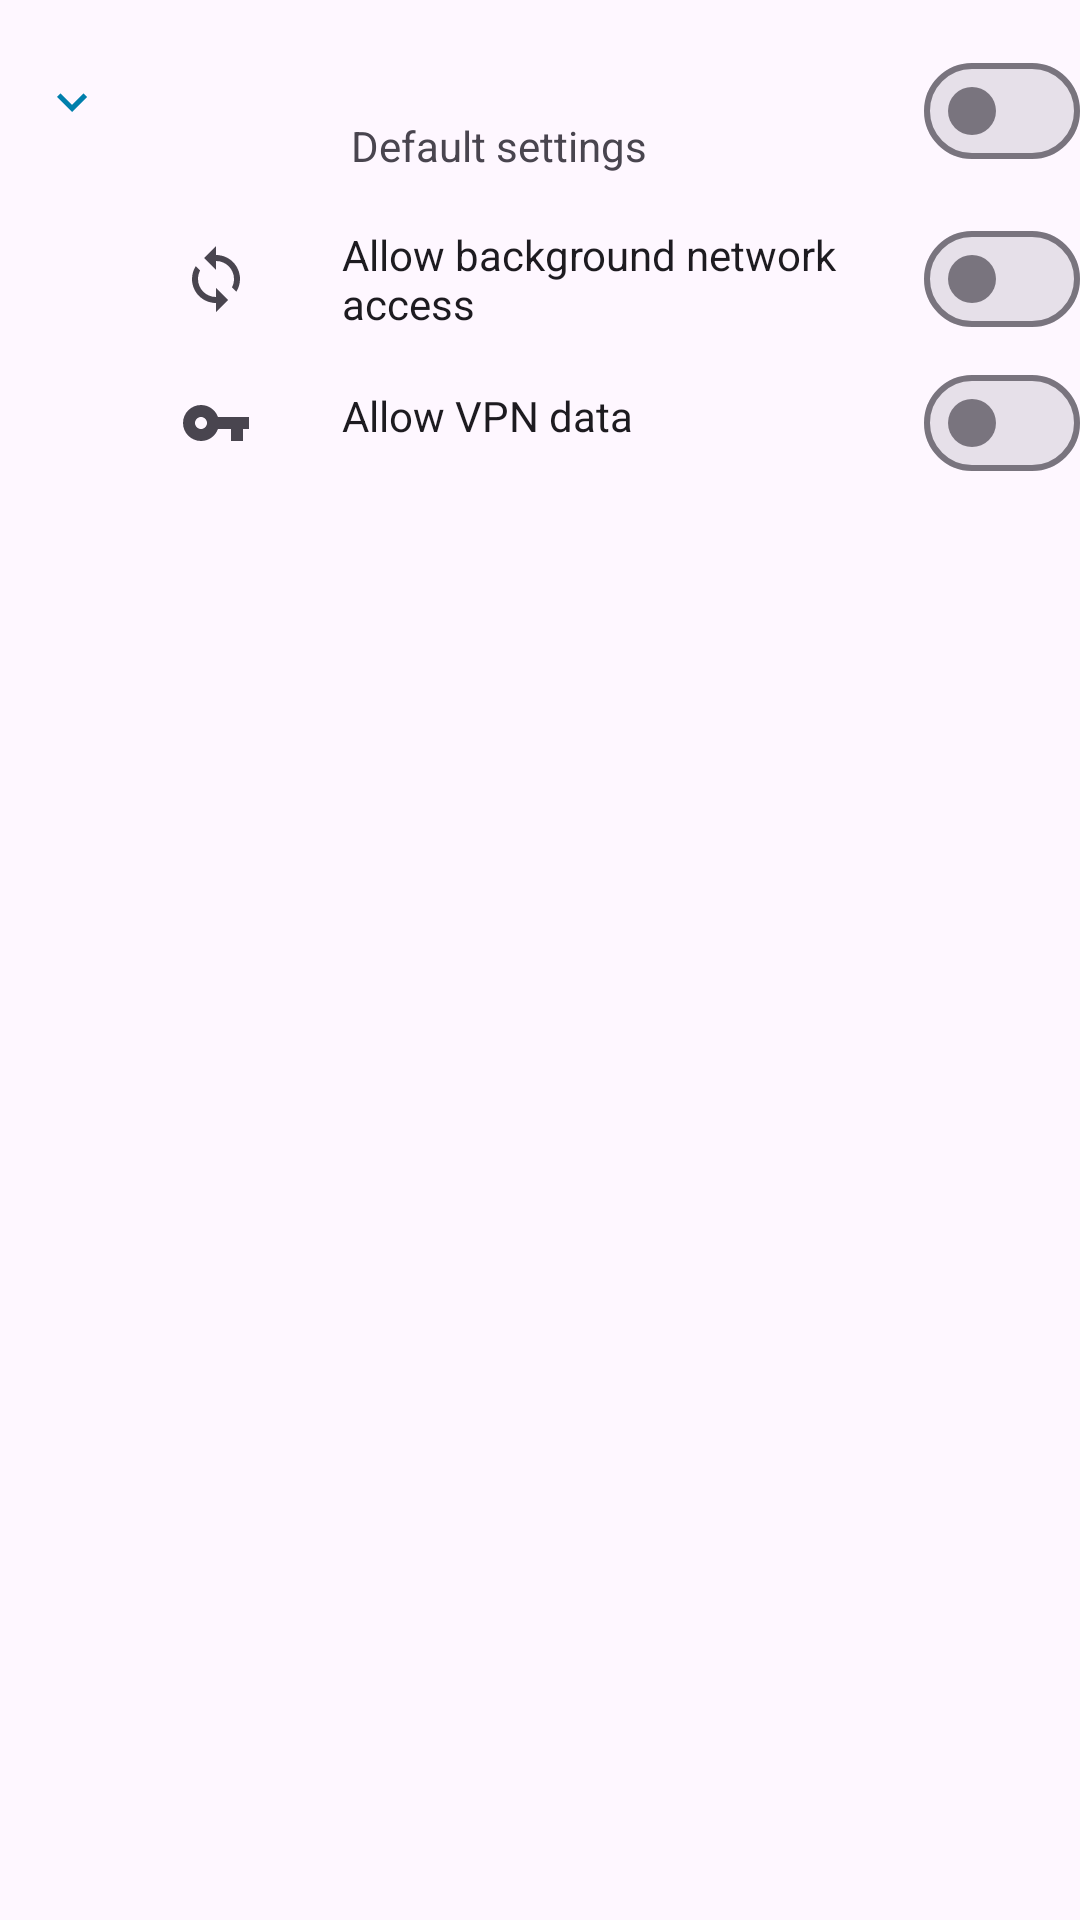

Where to tap for icons on this 1080w x 1920h app screen, as [x,y]:
arrow down: [72,102]
